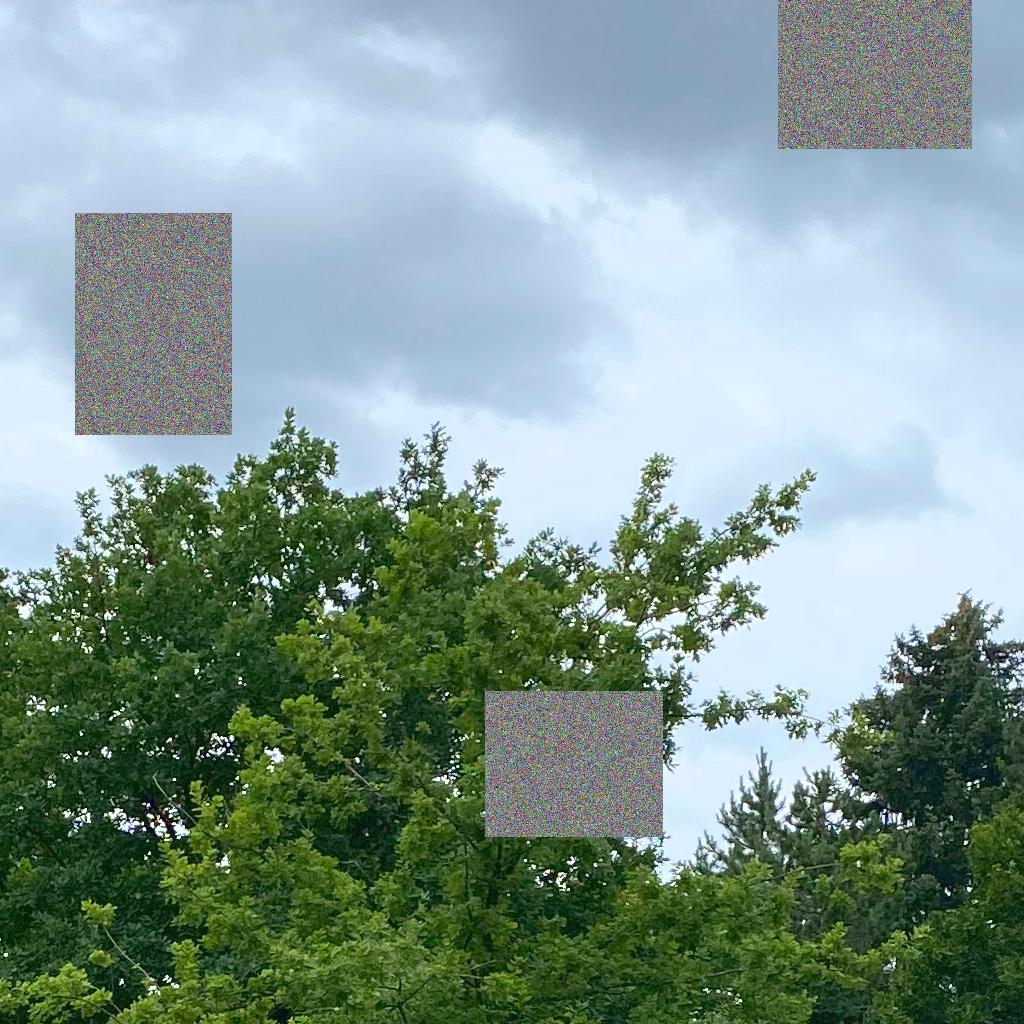tree: (1, 399, 821, 1023), (1, 490, 933, 1024), (823, 589, 1024, 906), (696, 746, 939, 954)
